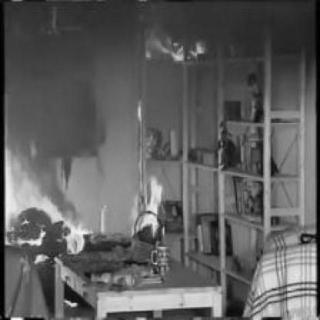Fire: (139, 22, 209, 64)
